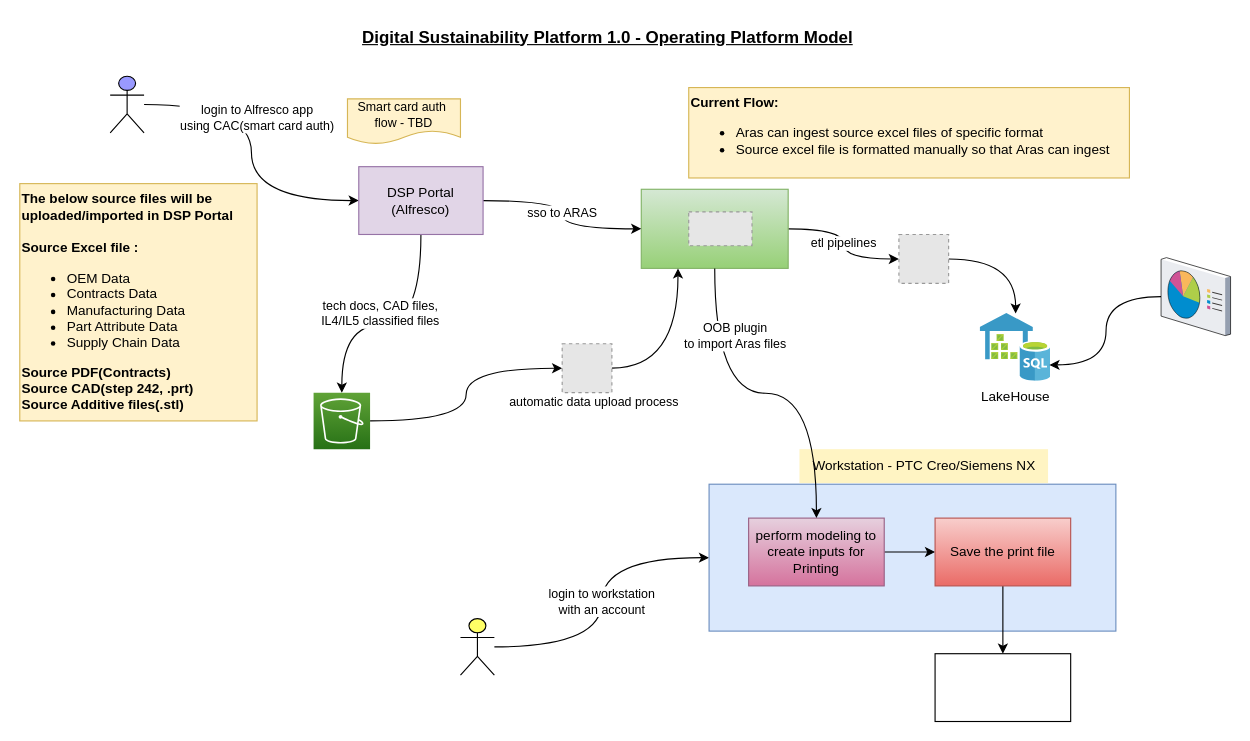
This 1250x741 diagram has some shape labels left out. Grey dashed boxes stand in for pictures. The shapes that lost their labels are listed below. From the top down, each one's centre as x and y in pixels, then its label:
(126,104): DoD user
(341,420): secured s3 bucket
(476,646): CAD user
(1002,687): Stored final model in file share
